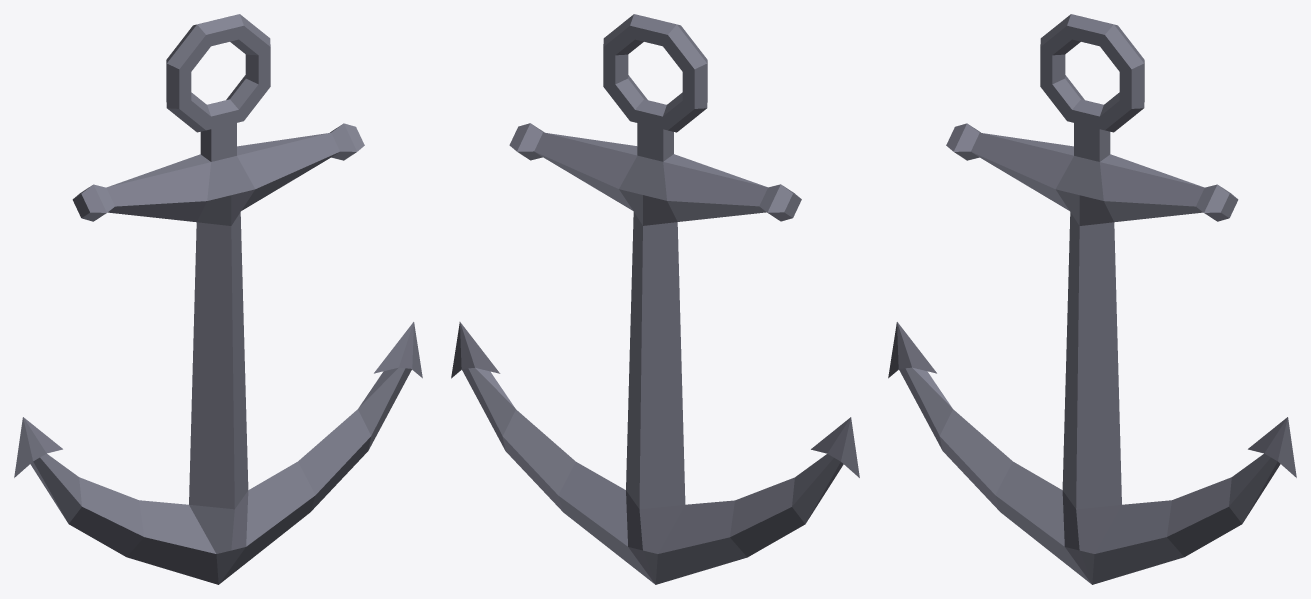
File: Anchor_tex.fbx
3 renders of one model, left to right at view 1: azimuth 30°, elevation 25°; view 2: azimuth 150°, elevation 25°; view 3: azimuth 330°, elevation 25°, orthographic.
Parts seen in each view (by area): view 1: Anchor_tex; view 2: Anchor_tex; view 3: Anchor_tex.
Boxes of the visible parts, x1,y1,x2,y2 form: Anchor_tex: (14,14,422,584); Anchor_tex: (451,14,859,584); Anchor_tex: (888,14,1296,584).
Bounding box in the file's own units: 0.9106 × 1.2 × 0.1248.
